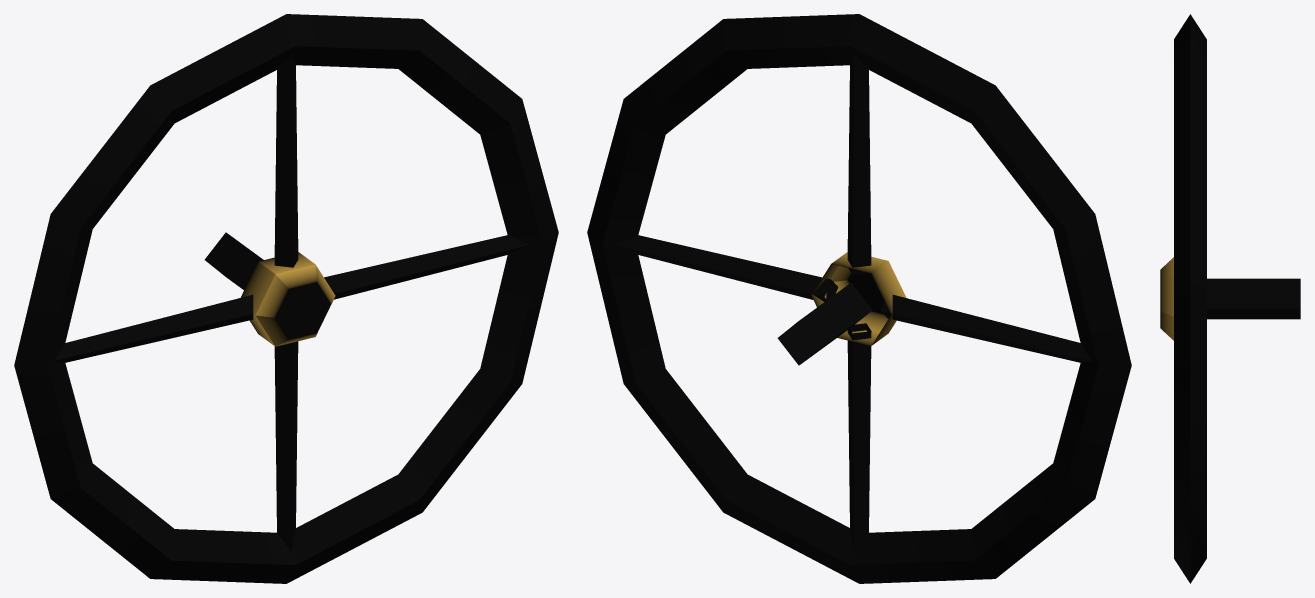
File: handwheel_small.glb
3 renders of one model, left to right at view 1: azimuth 30°, elevation 25°; view 2: azimuth 150°, elevation 25°; view 3: azimuth 270°, elevation 25°, orthographic. The views are drawn at different scales.
Parts seen in each view (by area): view 1: bright_steel, brass; view 2: bright_steel, brass; view 3: bright_steel, brass.
Part boxes in pixels (left/top/right/bottom): bright_steel: left=14, top=14, right=558, bottom=583; brass: left=241, top=252, right=335, bottom=346; bright_steel: left=587, top=14, right=1131, bottom=583; brass: left=811, top=252, right=906, bottom=345; bright_steel: left=1174, top=14, right=1300, bottom=583; brass: left=1160, top=257, right=1173, bottom=340.
Bounding box in the file's own units: 0.2284 × 0.2284 × 0.056.
